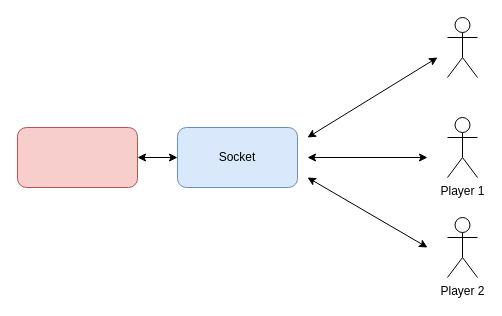
Some shapes in this 502 by 316 pixel diagram are drawn without their labels. Each missing label, with the centre of its shape:
Game instance: the point at 77,157
Player 0: the point at 462,47
